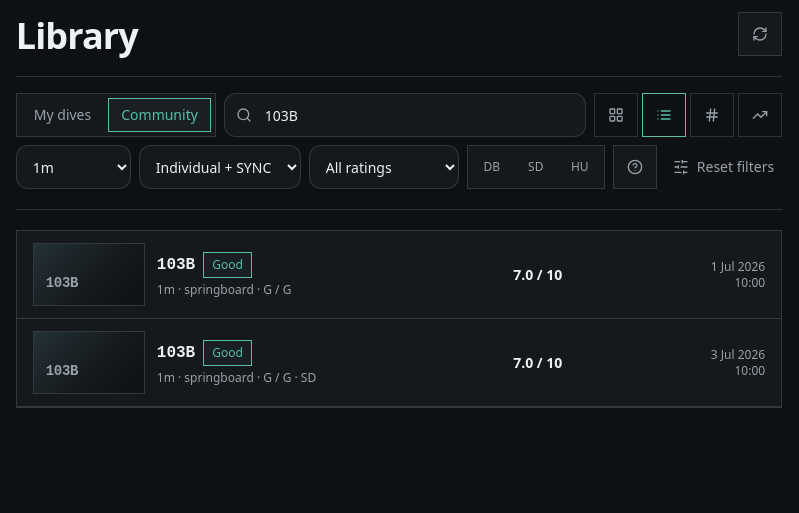
Test: clearing filters preserves the chosen library and view
Click the button "Reset filters".
click(724, 167)  # box [665, 145, 782, 189]
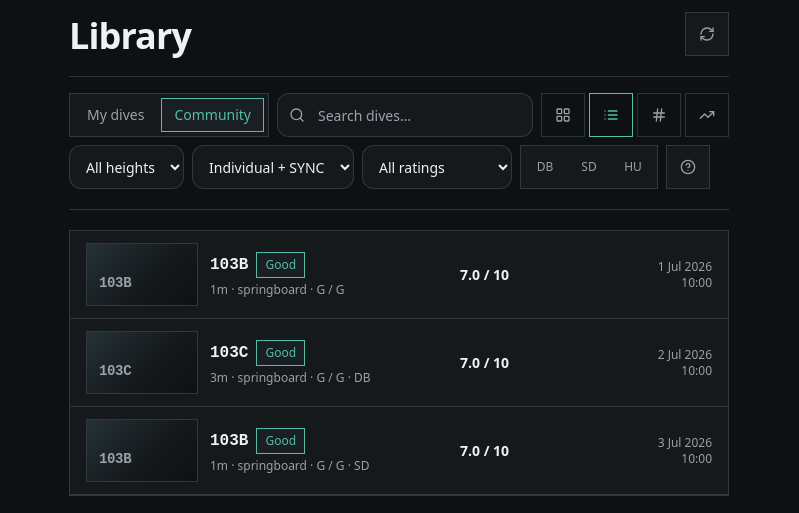
Expected: the field labelled "Search dives" is empty, [277, 93, 533, 137]
Expected: the dropdown named "Height" shows "All heights", [69, 145, 184, 189]
Expected: the number of buttons named "Open 103B attempt" is 2, [70, 231, 728, 319]; [70, 407, 728, 495]
